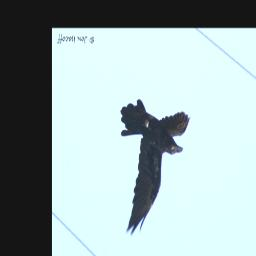Crow: (120, 100, 191, 237)
